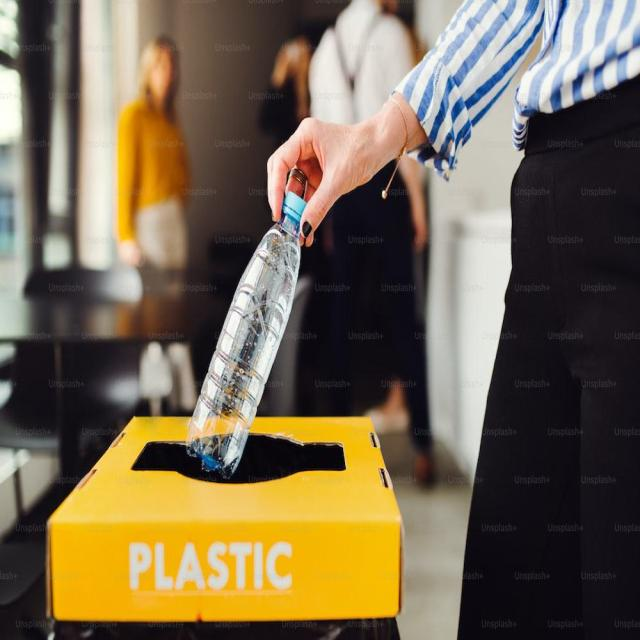plastic: (198, 174, 317, 490)
